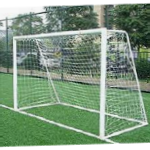goals: (11, 27, 148, 138)
